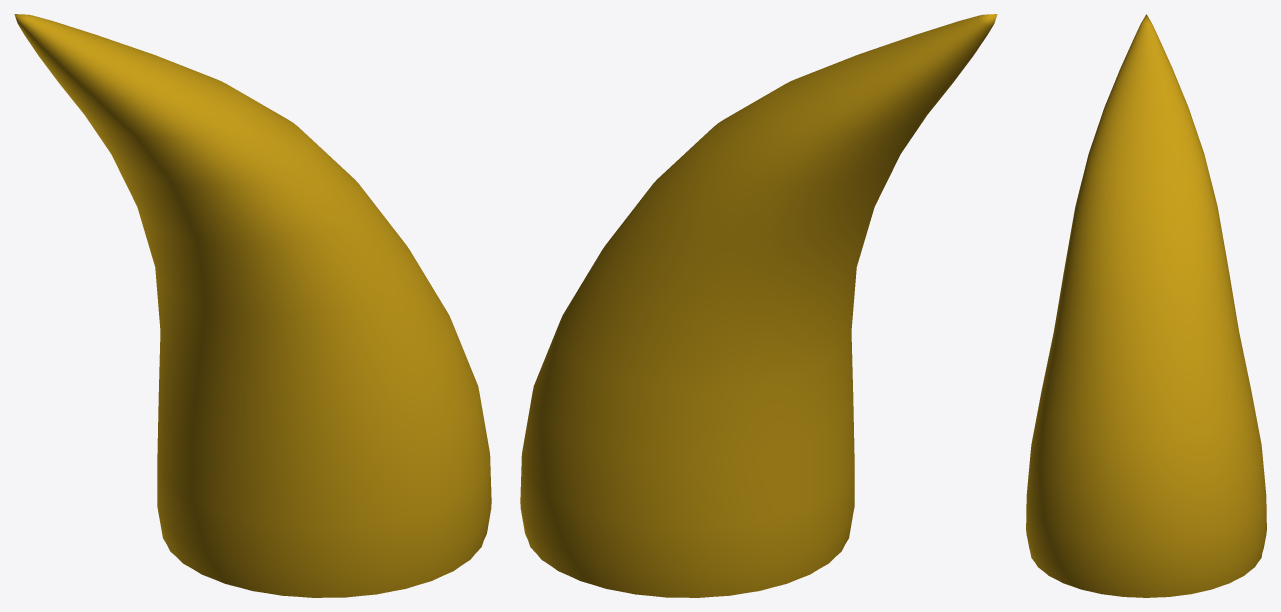
Rendered from rock_modle1.fbx.
3 renders of one model, left to right at view 1: azimuth 30°, elevation 25°; view 2: azimuth 150°, elevation 25°; view 3: azimuth 270°, elevation 25°, orthographic. The views are drawn at different scales.
Parts seen in each view (by area): view 1: rock_modle1; view 2: rock_modle1; view 3: rock_modle1.
Boxes of the visible parts, left/top/right/bottom form: rock_modle1: left=14, top=14, right=491, bottom=597; rock_modle1: left=520, top=14, right=997, bottom=597; rock_modle1: left=1026, top=14, right=1266, bottom=597.
Size of the model in its own units: 210 by 261 by 134.
